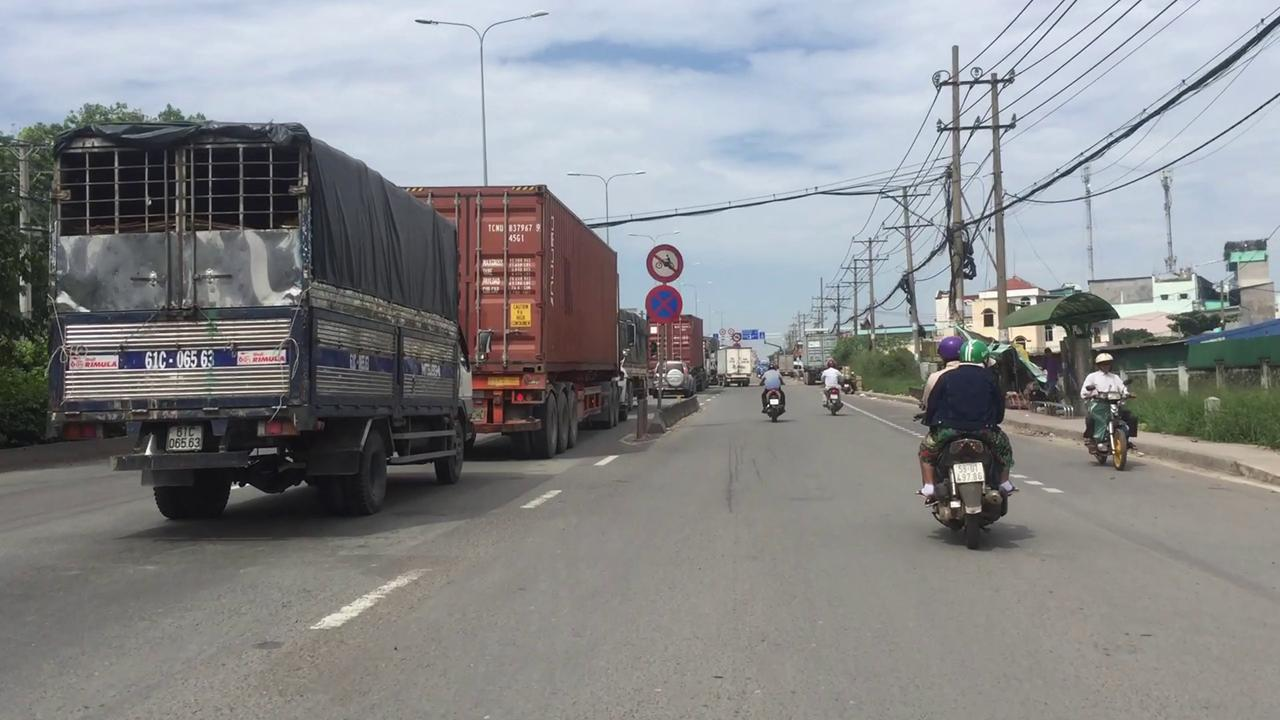P.103a: (644, 285, 684, 323)
P.103b: (646, 241, 684, 284)
